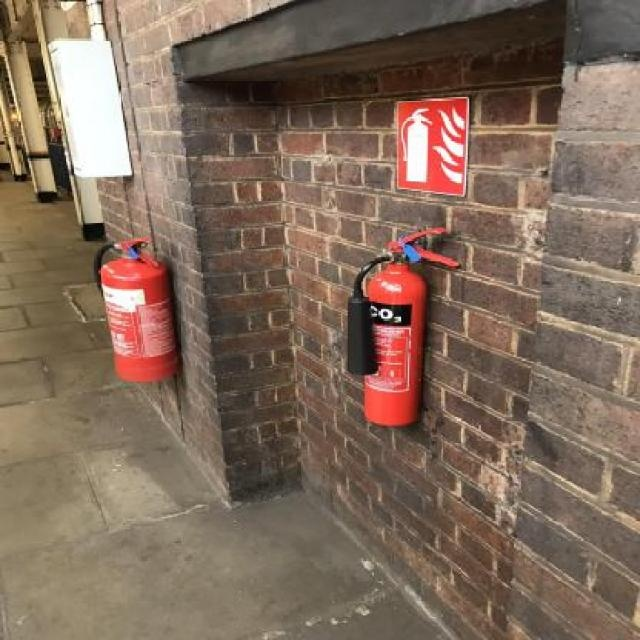fire extinguisher: (347, 225, 461, 427), (95, 238, 184, 382)
